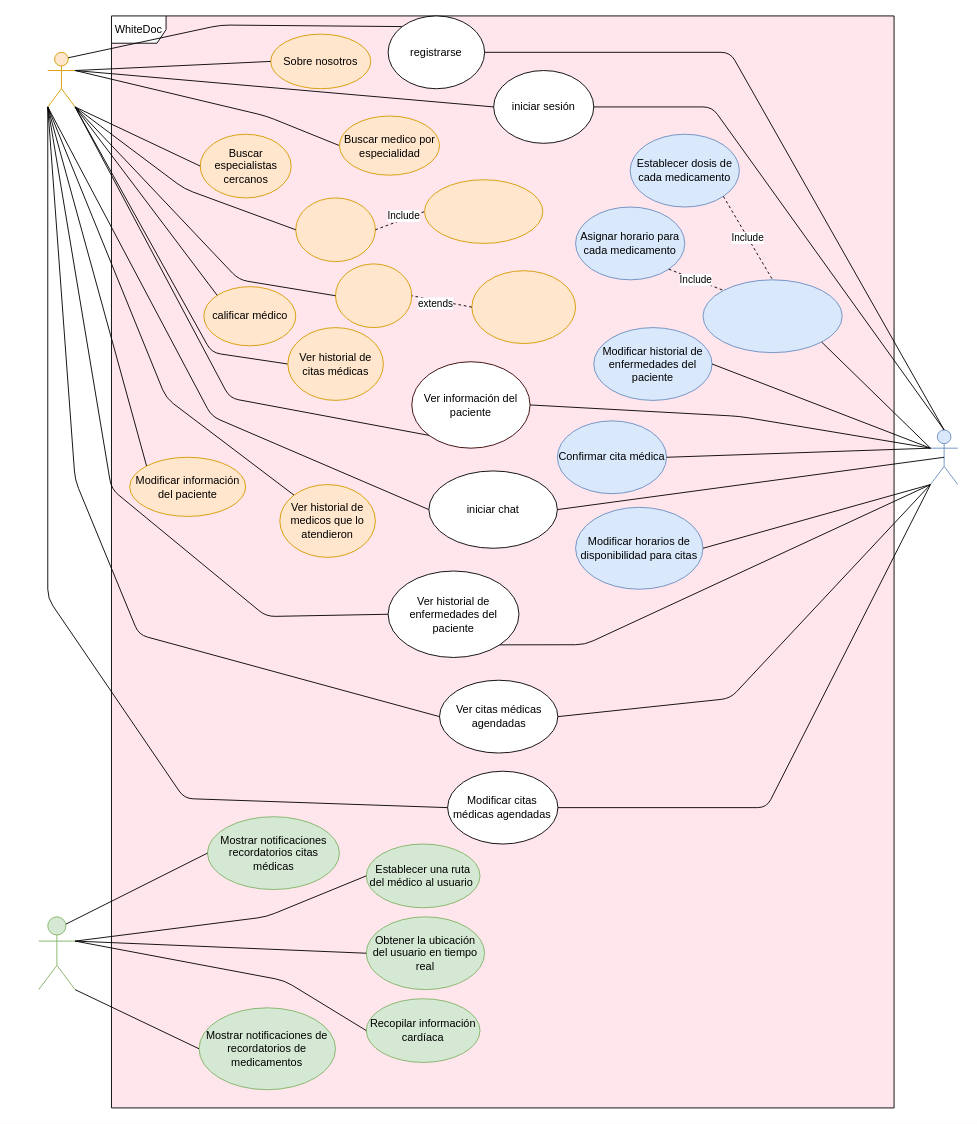
This 977x1124 diagram has some shape labels left out. Here are the shapes that lost their labels. From the top down, the centre of each, then its label:
At point 61,79: "pacientes/usuarios".
At point 335,229: "Programar cita médica".
At point 483,211: "mostrar horarios disponibles para agendar cita".
At point 373,295: "Realizar llamada de emergencia".
At point 523,307: "Ver la ubicación actual del médico".
At point 772,316: "Formular medicamentos a los pacientes".
At point 944,457: "Medico".
At point 56,953: "sistema".
